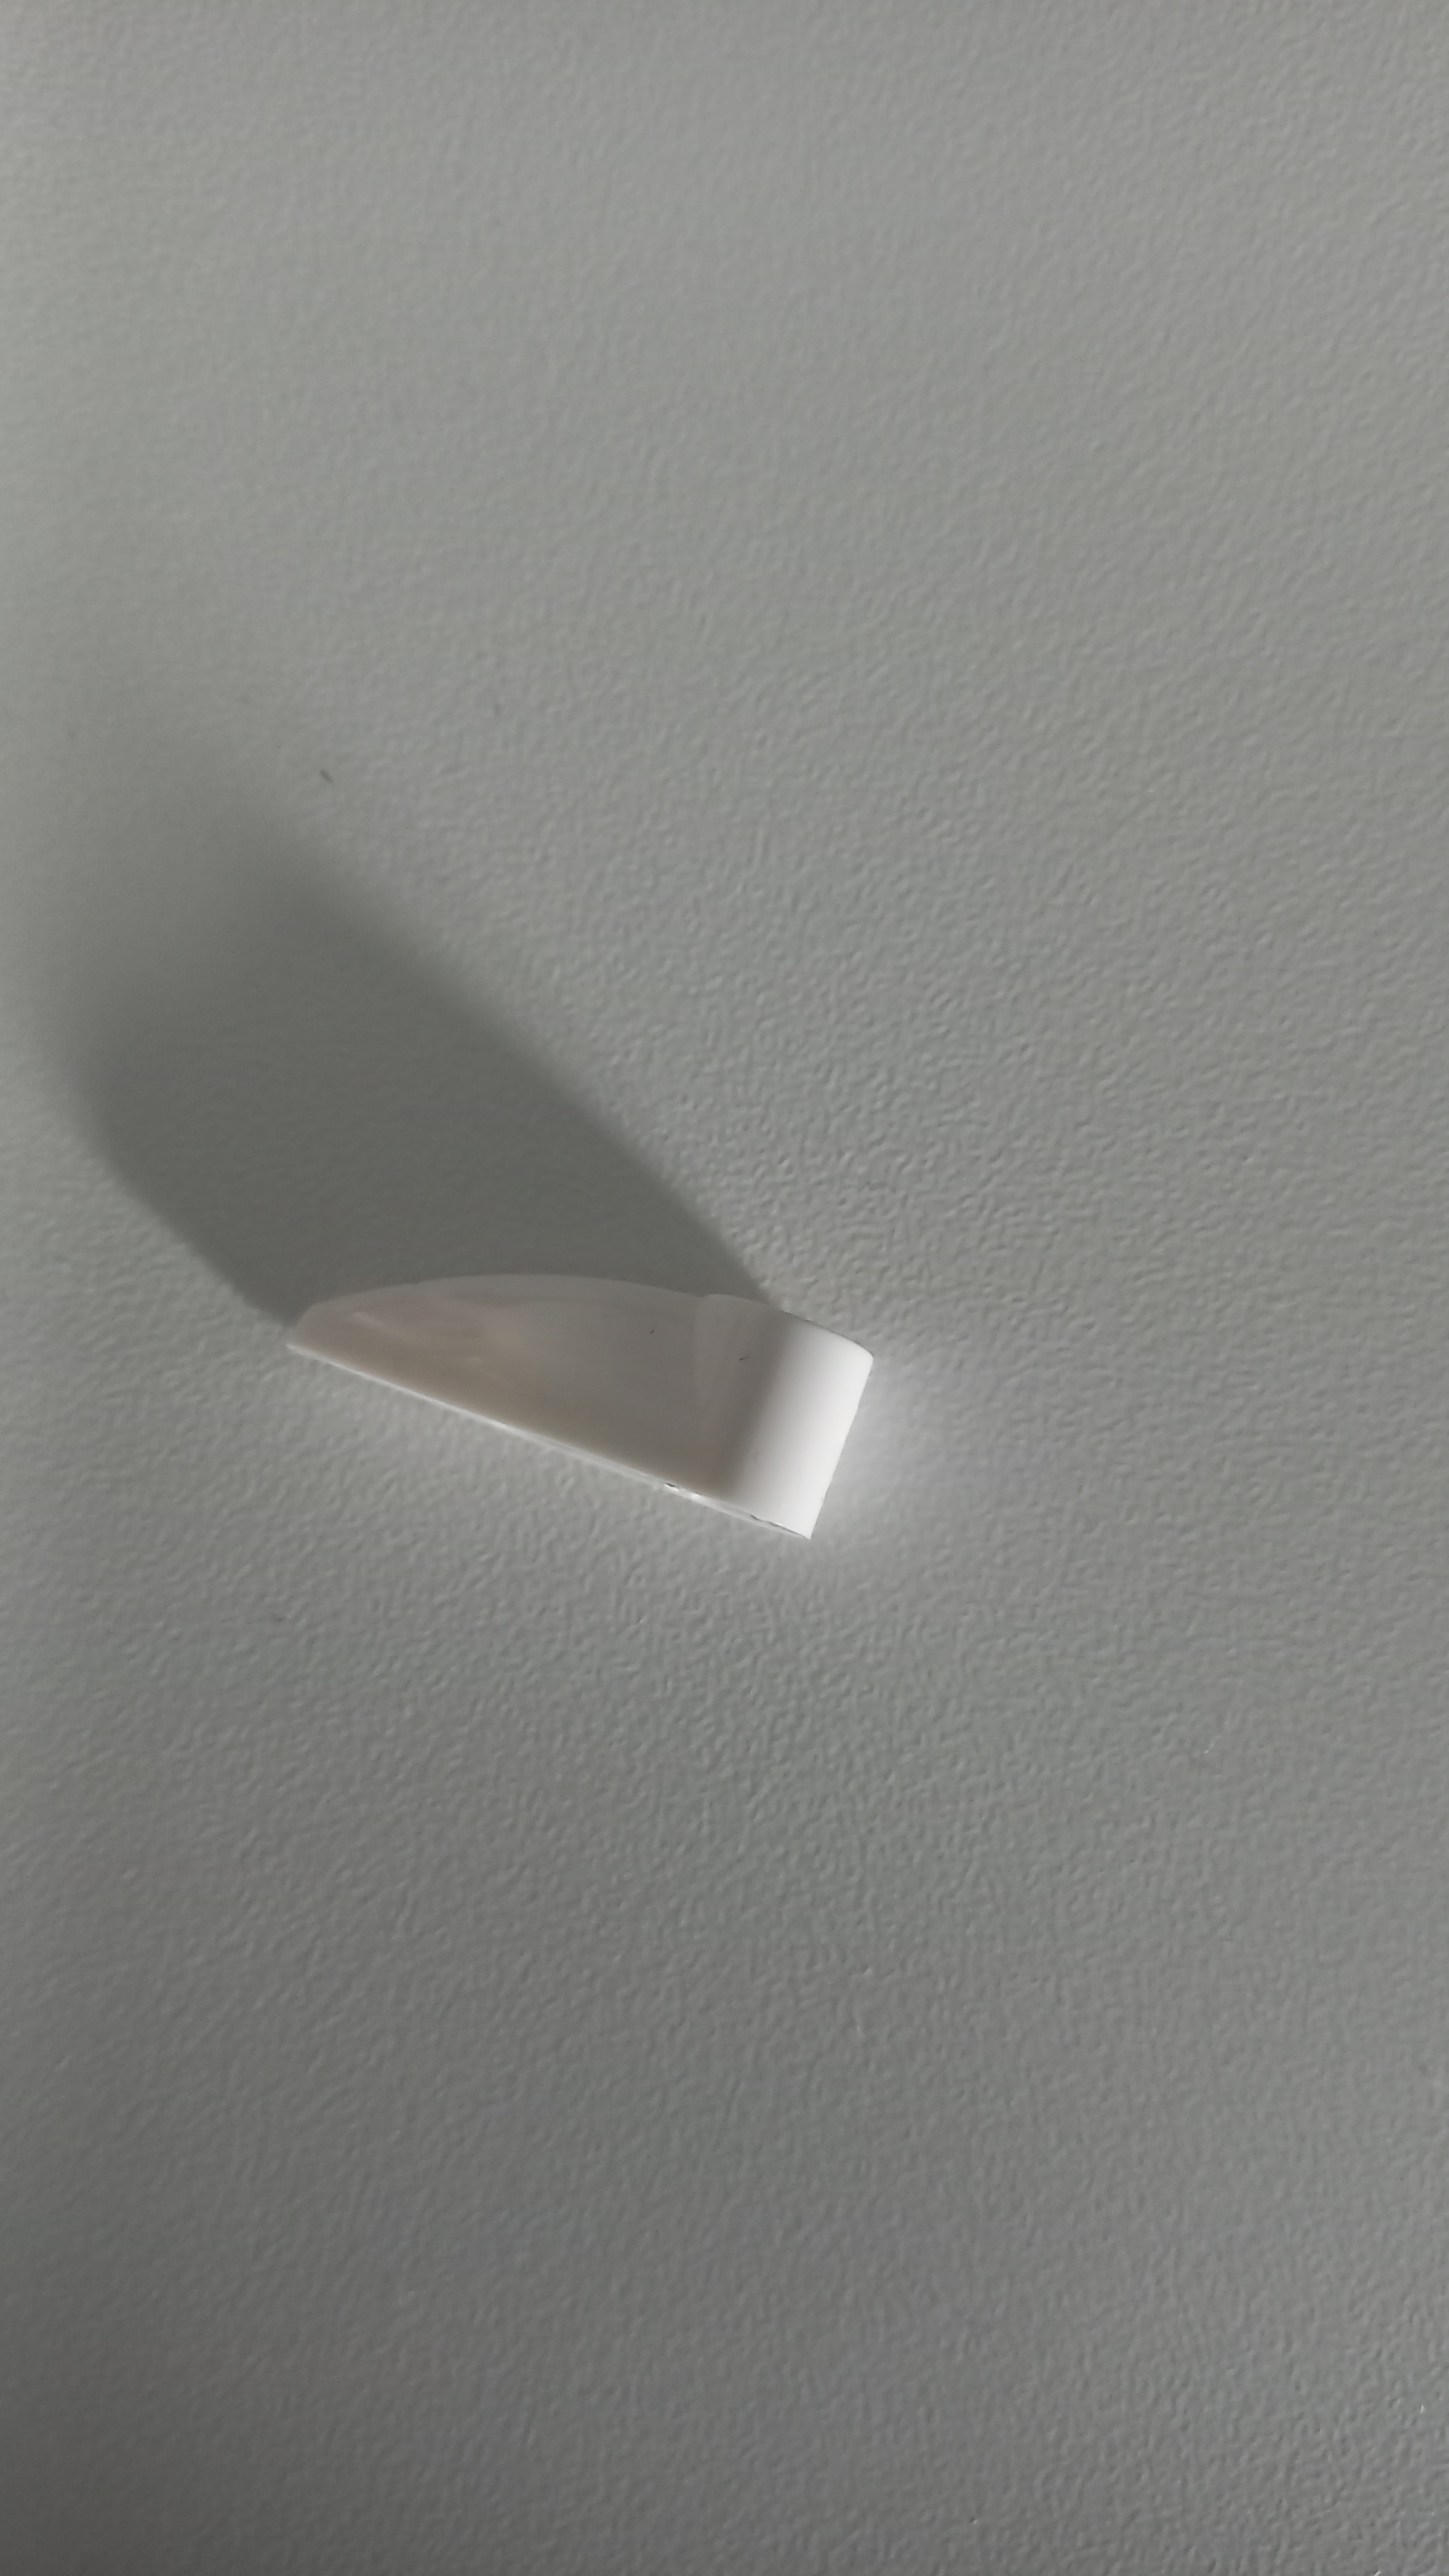Kappe: (264, 1240, 899, 1592)
